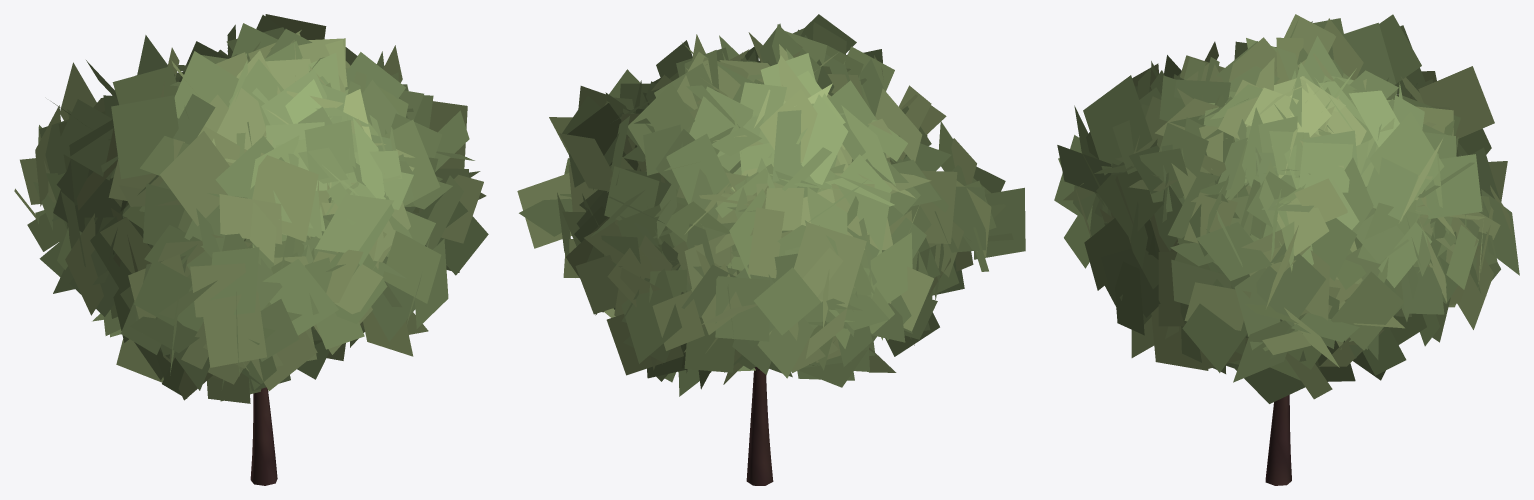
The model's file is cherry_1.glb.
3 views of the same model, side by side, from view 1: azimuth 30°, elevation 25°; view 2: azimuth 150°, elevation 25°; view 3: azimuth 270°, elevation 25° (orthographic).
Visible parts, largest first — view 1: cherry_1; view 2: cherry_1; view 3: cherry_1.
Part boxes in pixels (x1,y1,x2,y2): cherry_1: (14, 14, 488, 485); cherry_1: (517, 14, 1025, 485); cherry_1: (1054, 14, 1519, 485).
Size of the model in its own units: 1 by 1 by 0.9636.
